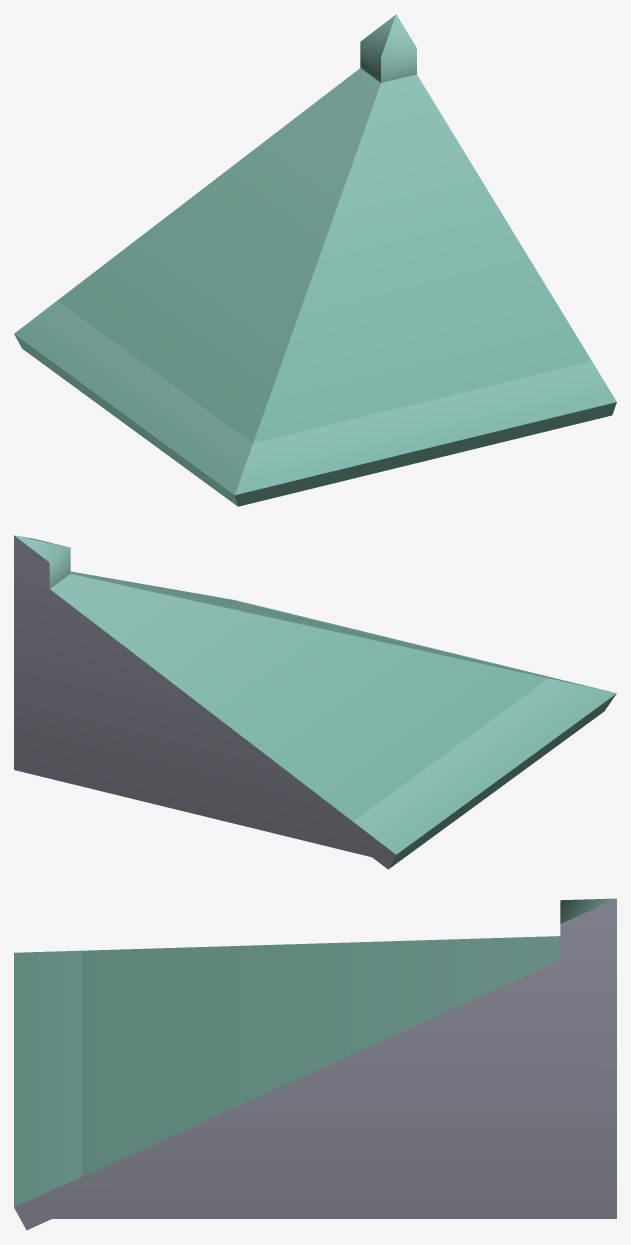
File: roof-corner.glb
3 views of the same model, one above another, from view 1: azimuth 30°, elevation 25°; view 2: azimuth 150°, elevation 25°; view 3: azimuth 270°, elevation 25° (orthographic). The views are drawn at different scales.
Parts seen in each view (by area): view 1: roof-corner; view 2: roof-corner; view 3: roof-corner.
Boxes of the visible parts, <box> form: roof-corner: <box>14,14,616,506</box>; roof-corner: <box>14,535,616,869</box>; roof-corner: <box>14,898,616,1230</box>.
Bounding box in the file's own units: 1.07 × 0.6483 × 1.07.
